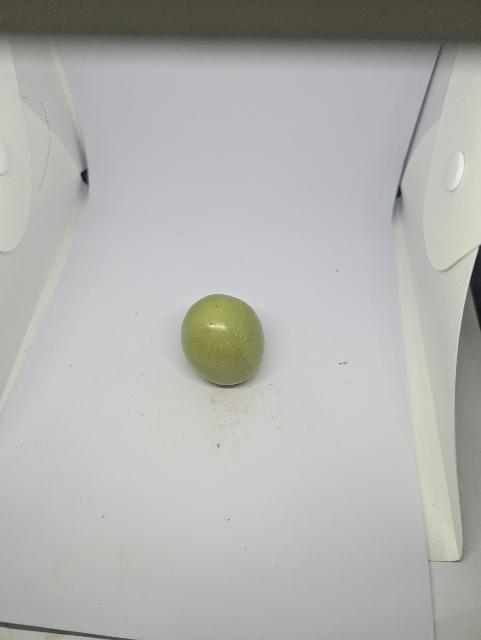green: (178, 283, 279, 399)
